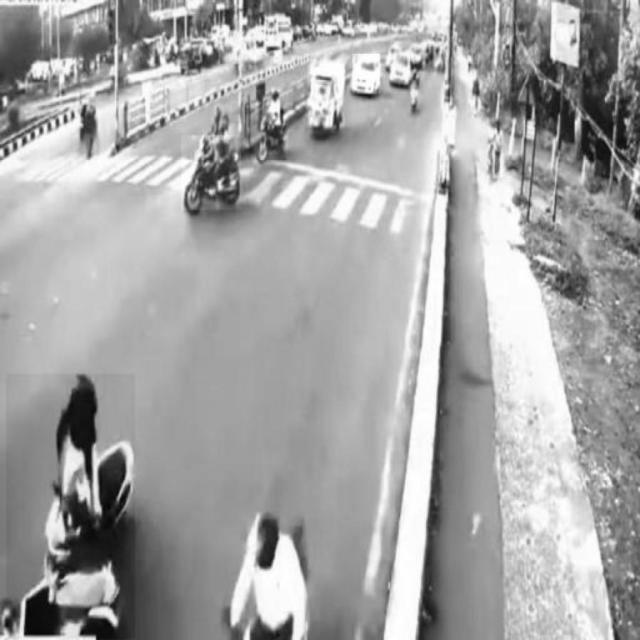accident: (6, 374, 134, 638)
vehicle: (181, 135, 241, 211), (308, 64, 345, 134), (255, 91, 289, 163), (353, 54, 380, 94)
